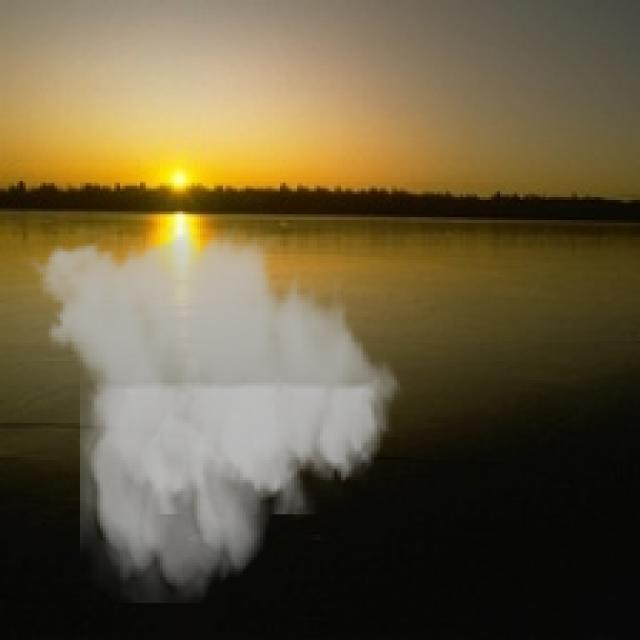smoke: (20, 217, 411, 603)
